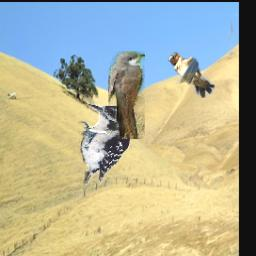Cuckoo: (109, 52, 146, 140)
Swallow: (168, 51, 215, 98)
Woodpecker: (78, 103, 134, 185)
